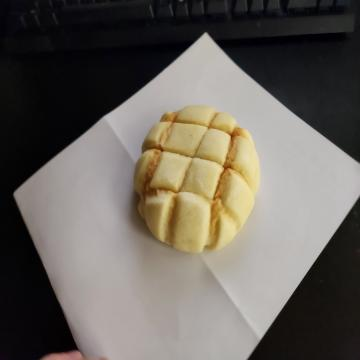melon_bread: (131, 106, 260, 253)
